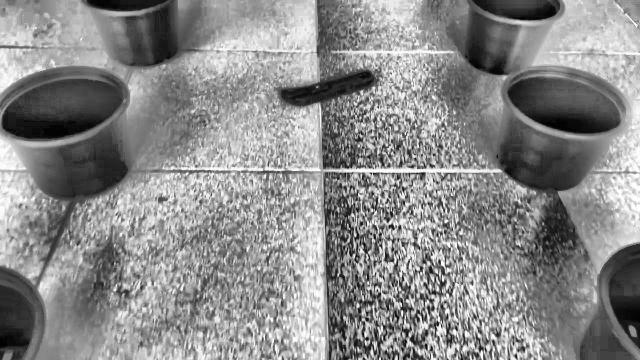pot: (0, 66, 134, 200), (495, 66, 634, 192)
